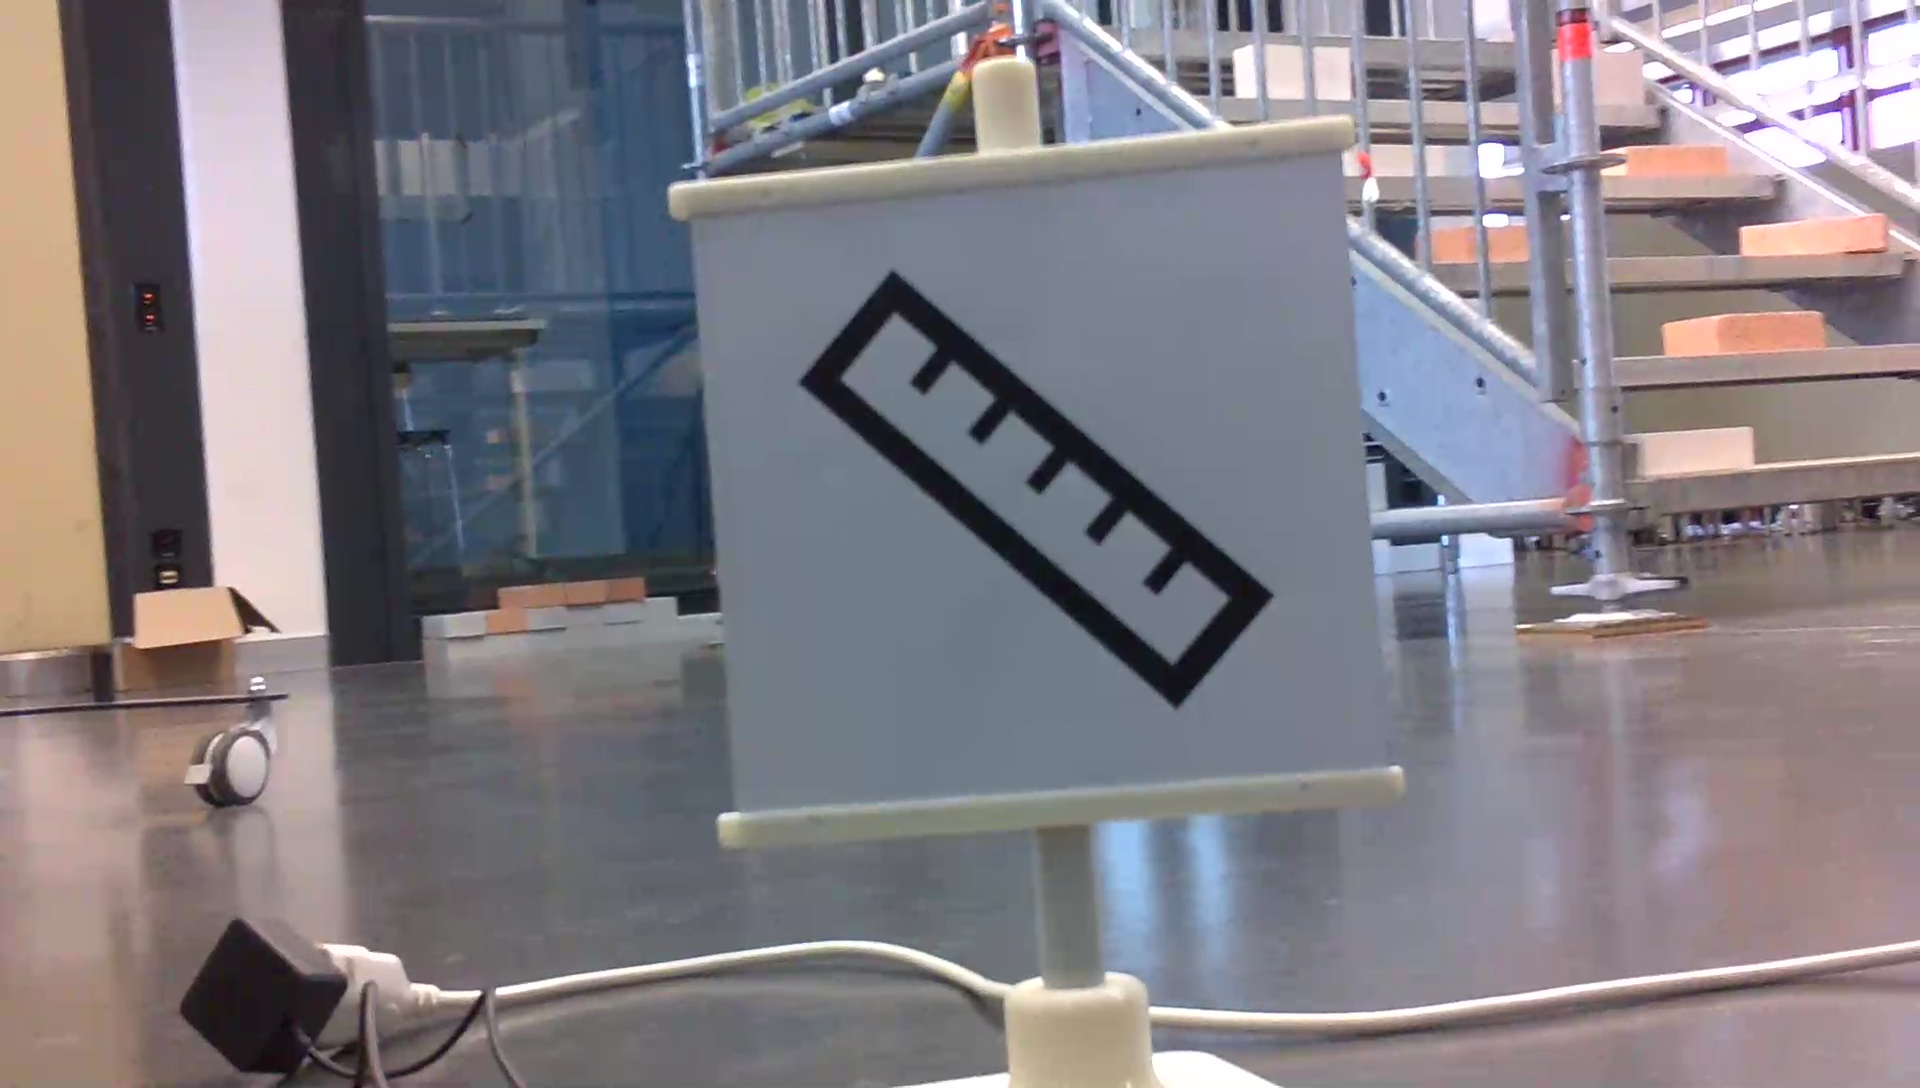brick: (1667, 302, 1830, 361), (1727, 211, 1887, 258), (1623, 422, 1754, 477), (1226, 41, 1350, 98), (1531, 46, 1647, 100), (1602, 141, 1726, 189), (1346, 137, 1486, 178), (1443, 218, 1549, 266)
edge: (1665, 442, 1920, 526), (1621, 335, 1920, 386), (1561, 255, 1912, 278), (1611, 174, 1785, 203)
ruler: (789, 255, 1280, 715)
